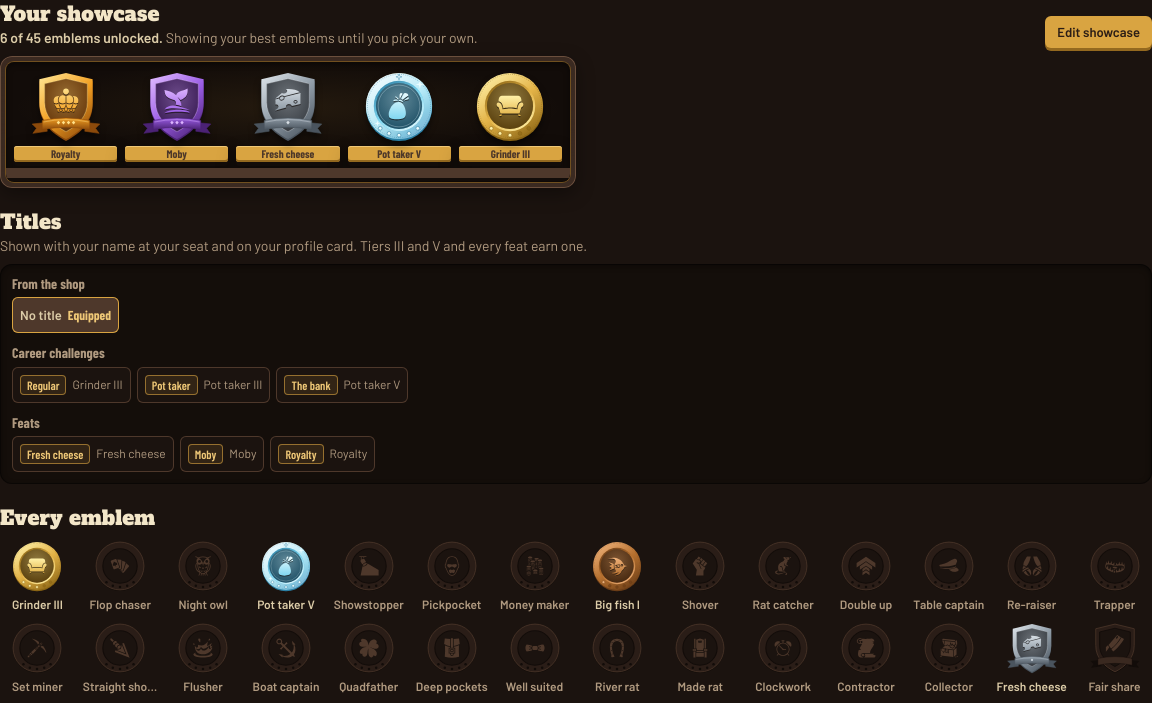
Test case: CabinetTab › keeps the dialog open and toasts the reason when saving is refused
The width and height of the screenshot is (1152, 703).
Click the button "Edit showcase" at (1099, 32), box [1045,16,1151,48]
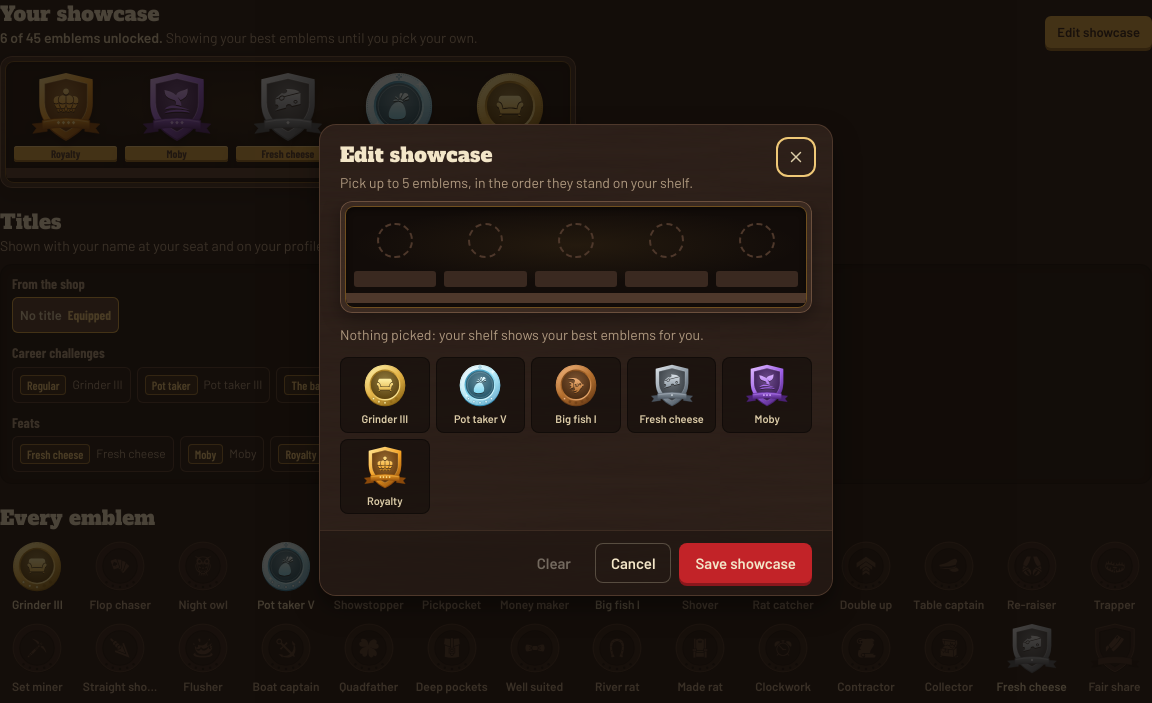
Click the button with aria-label "Royalty, legendary feat" at (385, 476), box [340,438,430,514]
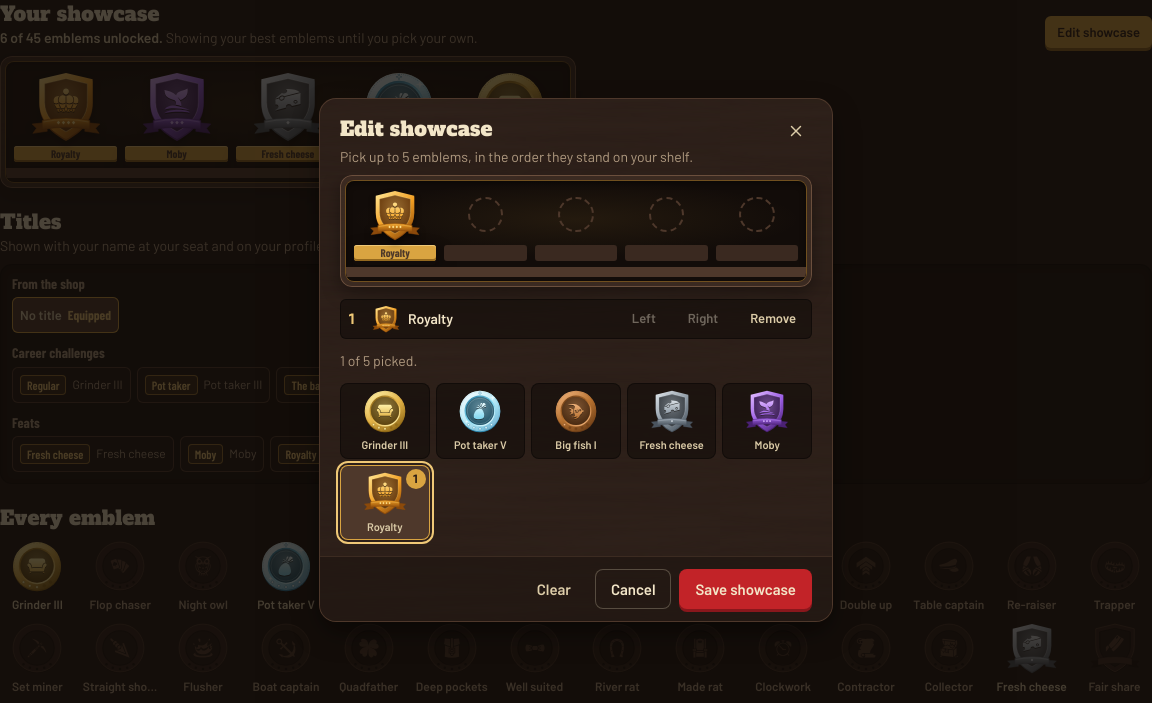
Click the button "Save showcase" at (746, 589), box [680,569,812,609]
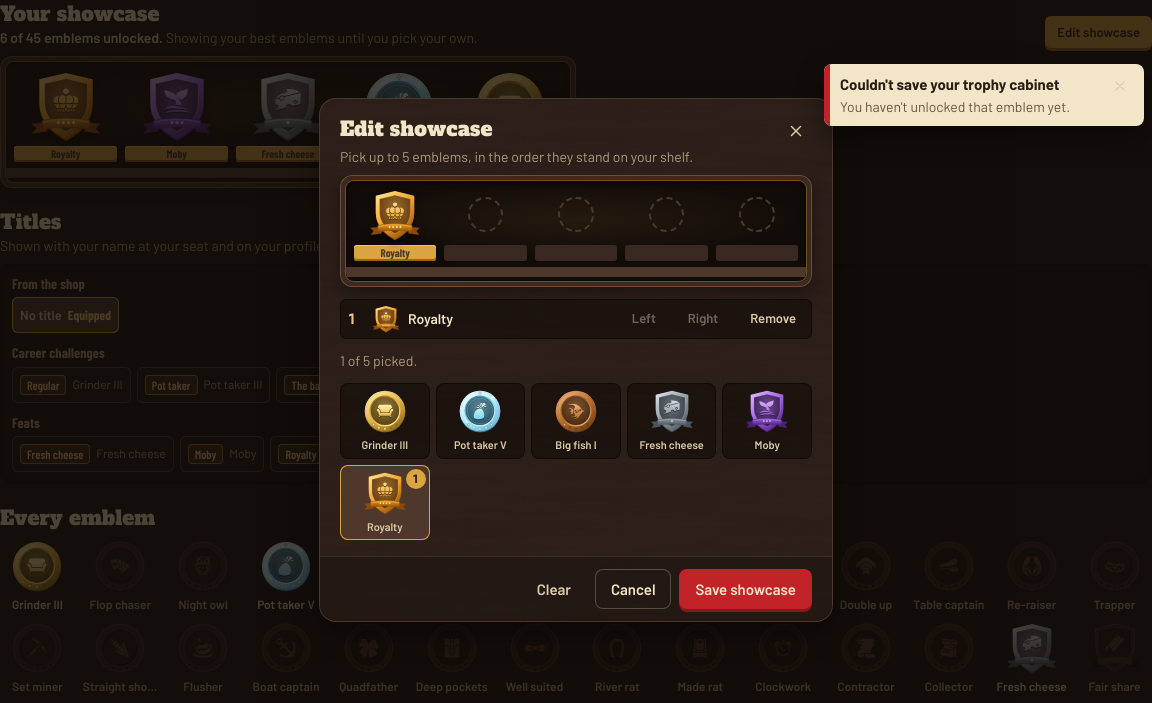
expect the dialog "Edit showcase" is shown: met, box [320,99,832,622]
expect the text "Couldn't save your trophy cabinet" is shown: met, box [840,74,1096,95]
expect the text "You haven't unlocked that emblem yet." is shown: met, box [840,97,1096,116]
